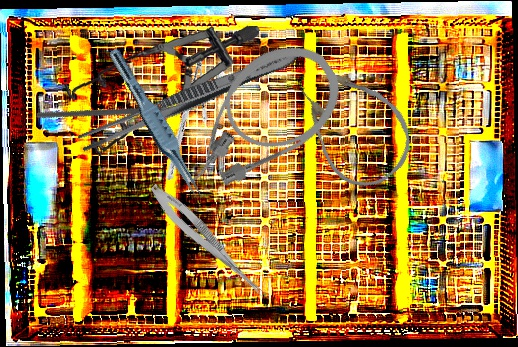Cannula: (154, 26, 358, 210), (281, 49, 428, 202)
Chopper: (34, 36, 207, 198)
Dressing Forceps: (76, 43, 301, 156)
Micro Scissor: (144, 179, 274, 303)
Needle Holder: (136, 52, 234, 181)
Speculum: (59, 10, 260, 169)
Tissue Forceps: (99, 46, 213, 204)
